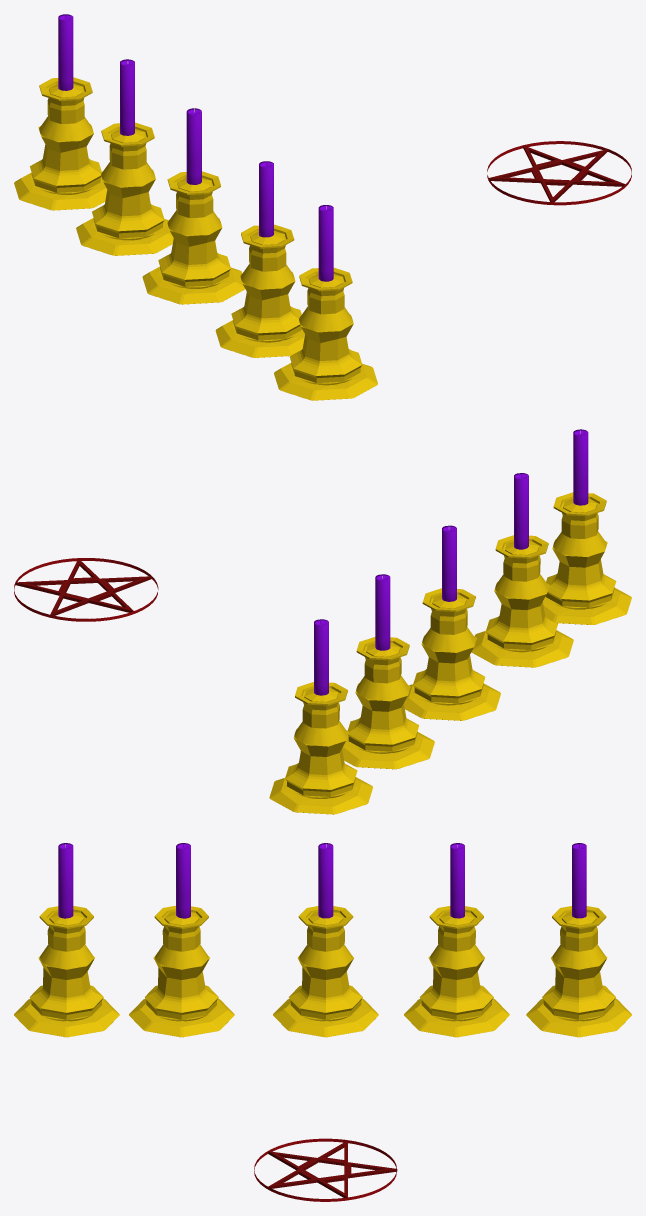
Rendered from pentagram.fbx.
The picture shows the model from 3 angles, top to bottom: view 1: azimuth 30°, elevation 25°; view 2: azimuth 150°, elevation 25°; view 3: azimuth 270°, elevation 25°; orthographic projection.
Parts seen in each view (by area): view 1: Cylinder.004, Cylinder, Cylinder.003, Cylinder.006, Cylinder.005, Circle, Cylinder.010, Cylinder.008, Cylinder.001, Cylinder.007, Cylinder.009, Cylinder.011; view 2: Cylinder.006, Cylinder.005, Cylinder, Cylinder.003, Cylinder.004, Circle, Cylinder.007, Cylinder.010, Cylinder.008, Cylinder.009, Cylinder.001, Cylinder.011; view 3: Cylinder.006, Cylinder, Cylinder.004, Cylinder.003, Cylinder.005, Circle, Cylinder.010, Cylinder.001, Cylinder.008, Cylinder.009, Cylinder.007, Cylinder.011.
Boxes of the visible parts, x1,y1,x2,y2 form: Cylinder.004: [274, 267, 377, 400]; Cylinder: [142, 171, 244, 304]; Cylinder.003: [76, 122, 173, 255]; Cylinder.006: [14, 77, 107, 210]; Cylinder.005: [215, 224, 304, 357]; Circle: [488, 145, 625, 202]; Cylinder.010: [318, 205, 333, 281]; Cylinder.008: [58, 14, 73, 90]; Cylinder.001: [186, 108, 201, 184]; Cylinder.007: [120, 59, 134, 135]; Cylinder.009: [259, 161, 273, 237]; Cylinder.011: [487, 141, 631, 205]; Cylinder.006: [269, 682, 372, 814]; Cylinder.005: [471, 535, 573, 667]; Cylinder: [404, 588, 500, 720]; Cylinder.003: [342, 637, 434, 769]; Cylinder.004: [543, 492, 631, 624]; Circle: [15, 558, 151, 617]; Cylinder.007: [375, 574, 390, 650]; Cylinder.010: [573, 429, 588, 505]; Cylinder.008: [314, 619, 328, 695]; Cylinder.009: [514, 473, 528, 549]; Cylinder.001: [442, 525, 456, 601]; Cylinder.011: [14, 558, 158, 621]; Cylinder.006: [526, 906, 631, 1037]; Cylinder: [273, 906, 378, 1037]; Cylinder.004: [14, 906, 119, 1037]; Cylinder.003: [404, 906, 509, 1037]; Cylinder.005: [129, 905, 234, 1037]; Circle: [268, 1140, 397, 1197]; Cylinder.010: [58, 843, 73, 918]; Cylinder.001: [318, 843, 333, 918]; Cylinder.008: [572, 843, 586, 918]; Cylinder.009: [176, 843, 190, 918]; Cylinder.007: [450, 843, 464, 918]; Cylinder.011: [254, 1138, 396, 1201].
Bounding box in the file's own units: 755 × 268 × 865.
